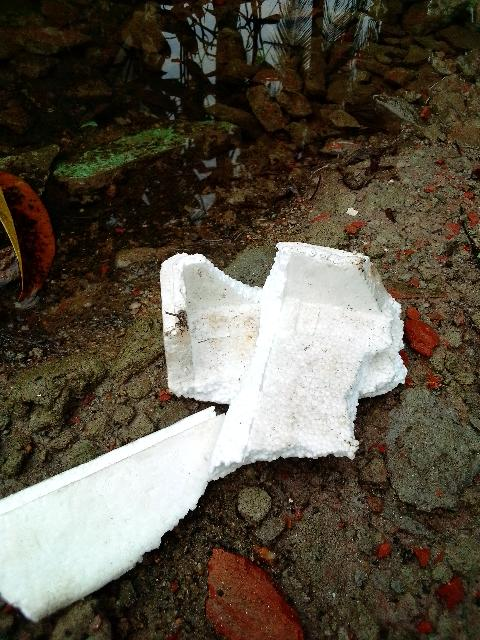cocksheet: (0, 389, 253, 623), (143, 256, 396, 460)
